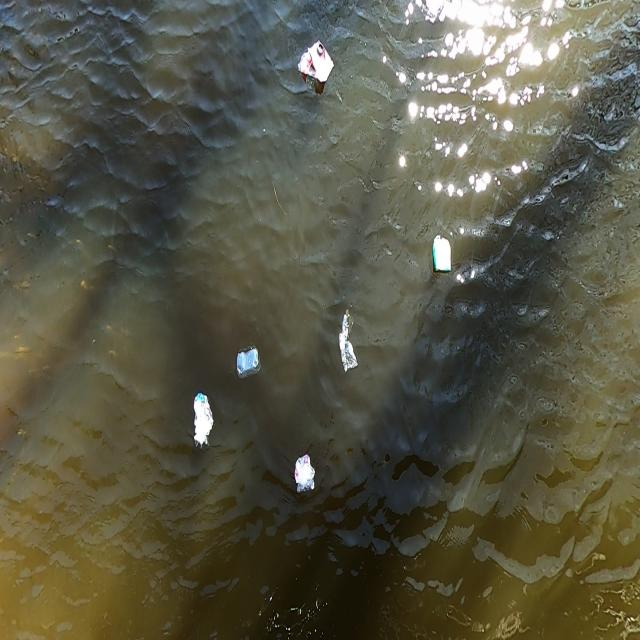Autre plastique: (294, 40, 335, 90), (432, 236, 455, 278)
